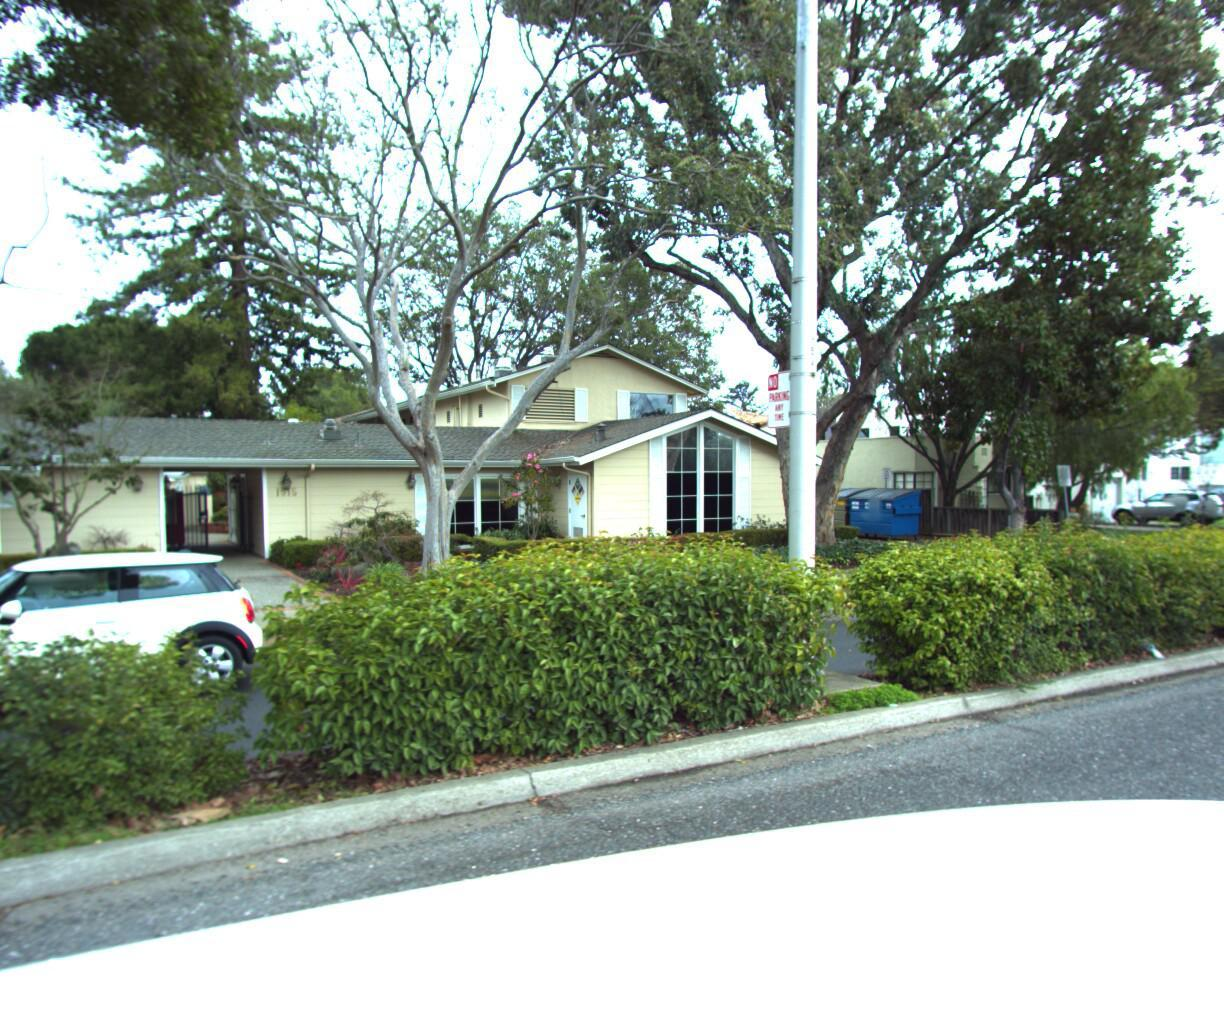car: (0, 537, 276, 761), (1109, 484, 1224, 526)
